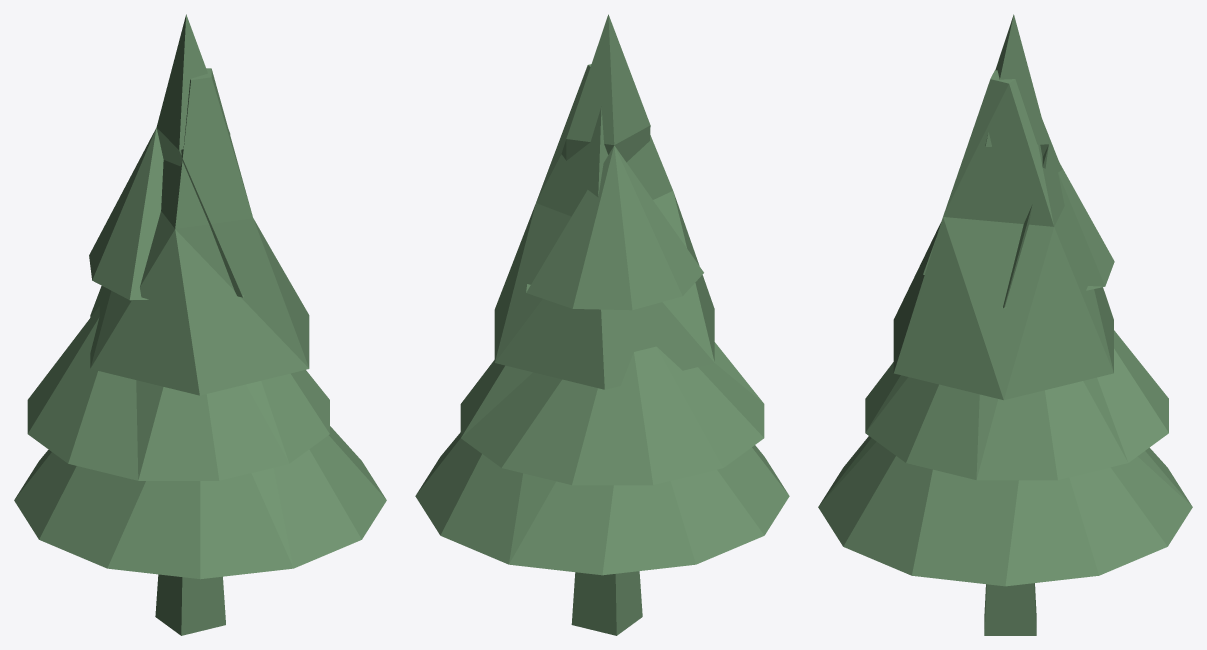
Rendered from tree.lod2.glb.
3 views of the same model, side by side, from view 1: azimuth 30°, elevation 25°; view 2: azimuth 150°, elevation 25°; view 3: azimuth 270°, elevation 25° (orthographic).
Size of the model in its own units: 2.24 by 4.02 by 2.24.
